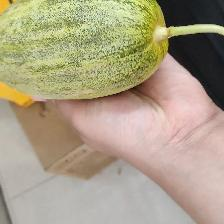gua: (7, 14, 168, 84)
